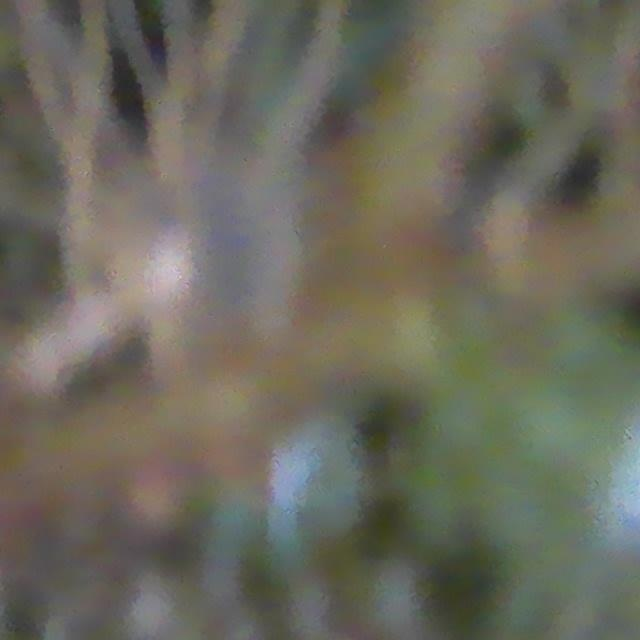SeaGrape: (352, 550, 416, 634), (108, 558, 172, 640), (276, 558, 336, 640)
